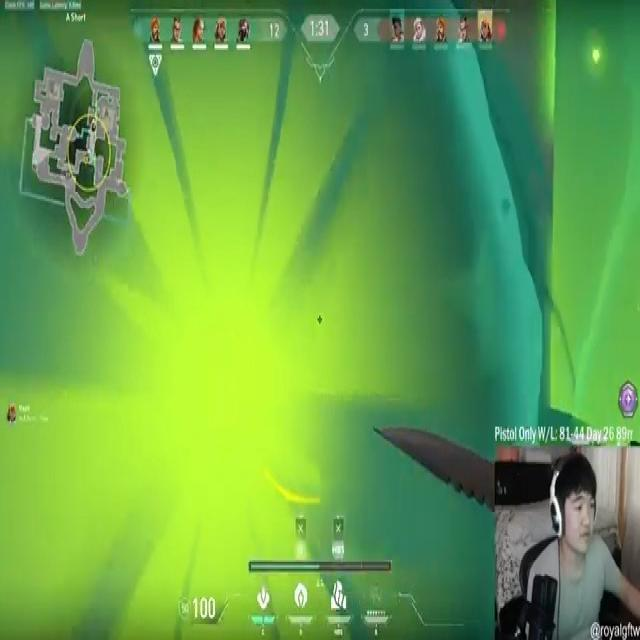smoke: (0, 10, 538, 640)
